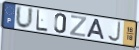0: (54, 13, 68, 35)
A: (85, 18, 105, 41)
J: (107, 21, 122, 43)
L: (36, 9, 49, 33)
U: (15, 4, 34, 30)
Z: (69, 15, 88, 39)
